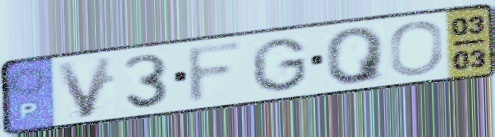3: (121, 52, 171, 110)
F: (185, 37, 249, 107)
G: (248, 36, 310, 94)
O: (387, 19, 446, 78)
Q: (322, 24, 389, 87)
V: (52, 53, 117, 121)
